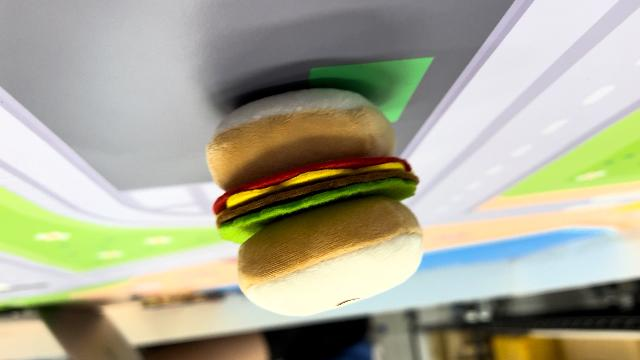sandwich: (202, 84, 426, 316)
